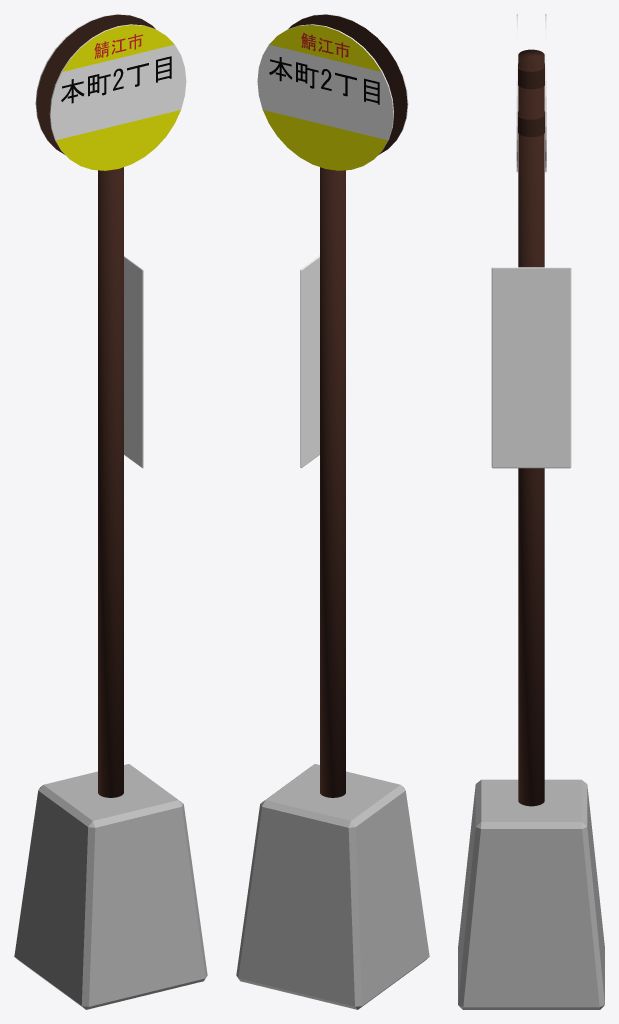
Rendered from bus_stop.glb.
The picture shows the model from 3 angles, left to right: view 1: azimuth 30°, elevation 25°; view 2: azimuth 150°, elevation 25°; view 3: azimuth 270°, elevation 25°; orthographic projection.
Visible parts, largest first — view 1: Cube.001, Cube, Cube.002, Text.002; view 2: Cube.001, Cube, Cube.002, Text.001; view 3: Cube.001, Cube.002, Cube.
Part boxes in pixels (x1,y1,x2,y2): Cube.001: [14, 764, 207, 1009]; Cube: [35, 14, 186, 797]; Cube.002: [124, 256, 143, 468]; Text.002: [61, 56, 171, 103]; Cube.001: [236, 764, 429, 1009]; Cube: [257, 14, 408, 797]; Cube.002: [300, 255, 319, 468]; Text.001: [269, 57, 379, 104]; Cube.001: [458, 779, 604, 1009]; Cube.002: [491, 267, 571, 468]; Cube: [516, 14, 546, 806].
Bounding box in the file's own units: 0.3002 × 2 × 0.278.
